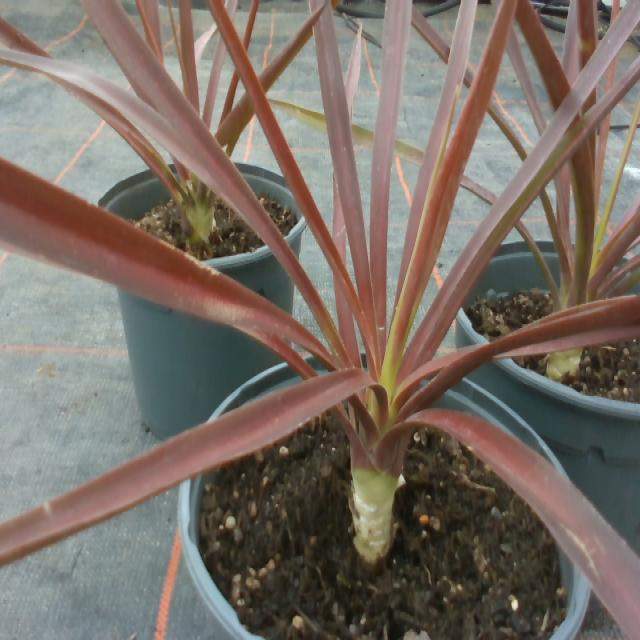Yucca-aloifolia: (398, 5, 639, 379), (82, 0, 337, 353), (0, 369, 368, 565), (208, 0, 376, 363), (0, 159, 316, 345), (410, 409, 639, 637), (383, 0, 515, 381), (393, 296, 639, 409), (396, 0, 477, 300), (2, 49, 178, 151), (314, 8, 373, 311), (370, 0, 410, 341), (64, 85, 185, 195), (515, 0, 568, 108), (569, 143, 595, 301), (179, 0, 198, 111), (0, 17, 51, 57), (489, 100, 523, 159), (203, 36, 225, 127), (412, 9, 449, 61), (271, 99, 326, 132), (345, 25, 360, 121), (463, 176, 492, 201), (395, 141, 423, 164), (352, 124, 372, 148), (463, 64, 474, 87), (230, 0, 236, 17)
